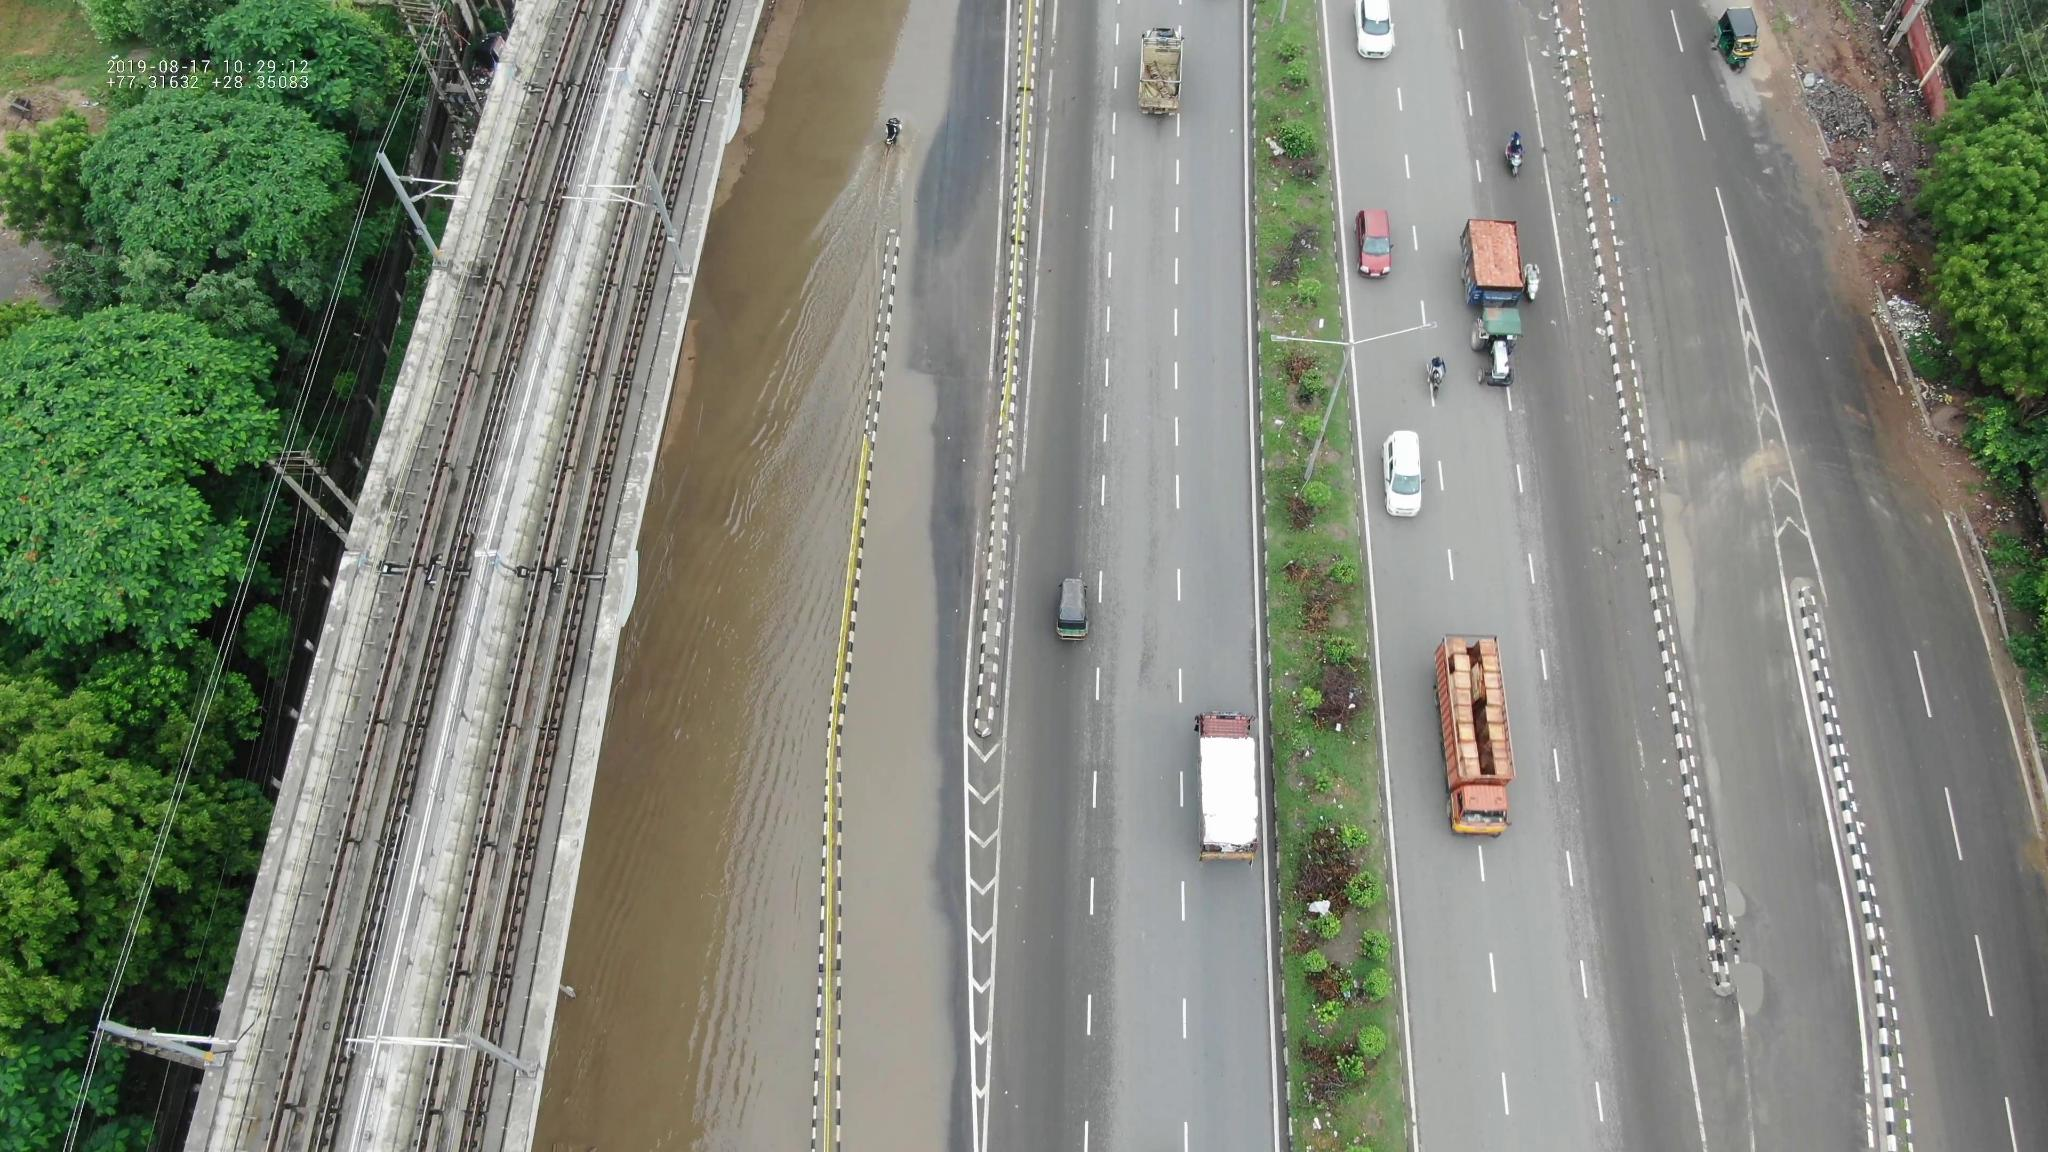Potholes: (1722, 948, 1784, 1049), (1724, 872, 1762, 931)
Waterlogging: (511, 577, 966, 1141), (620, 1, 1004, 568)
